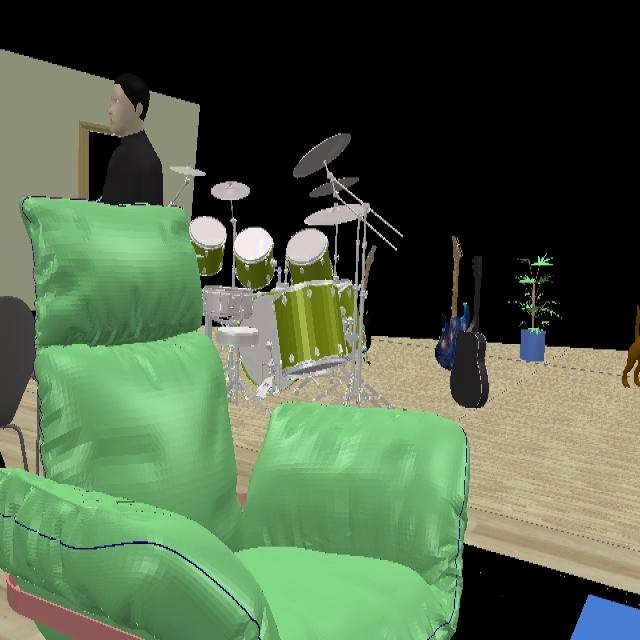person: (98, 73, 163, 207)
sofa: (0, 199, 471, 640)
